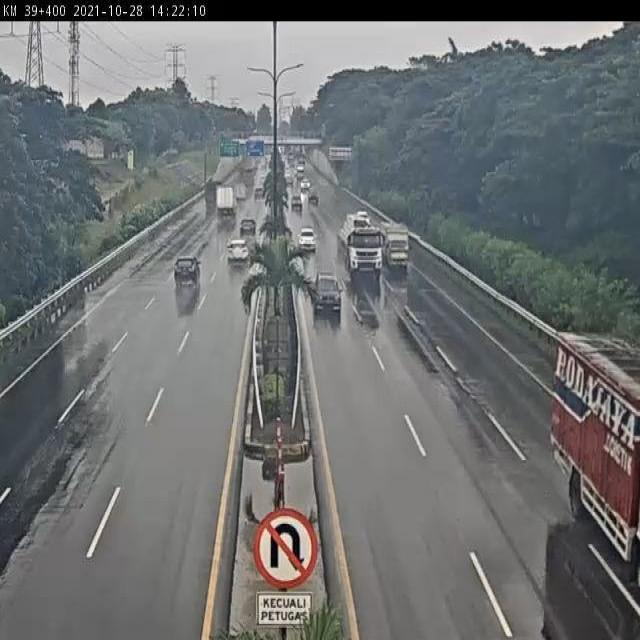car: (311, 268, 343, 312), (171, 255, 204, 289), (224, 240, 251, 272), (297, 226, 318, 253), (238, 219, 259, 236)
truck-s-: (382, 216, 412, 275)
truck-xl-: (339, 209, 386, 275)
